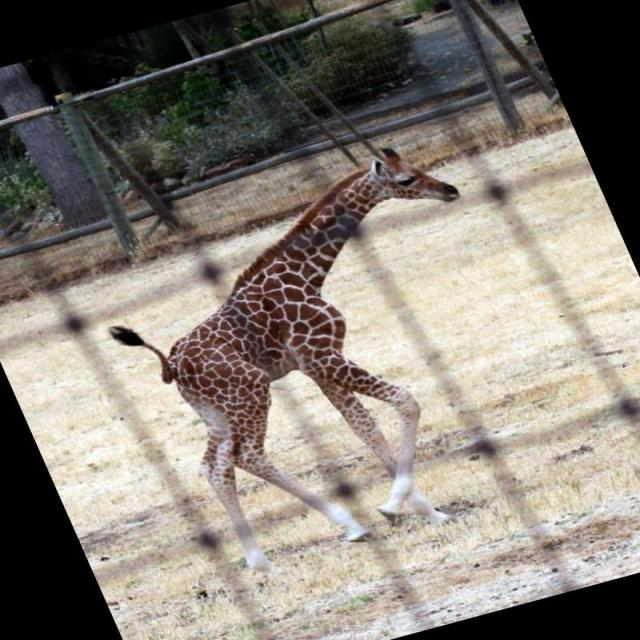Giraffe: (97, 126, 502, 580)
